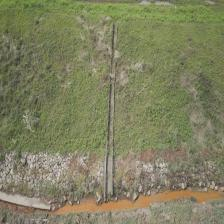rock_toe: (0, 155, 71, 190)
slope_drain: (105, 22, 118, 202)
